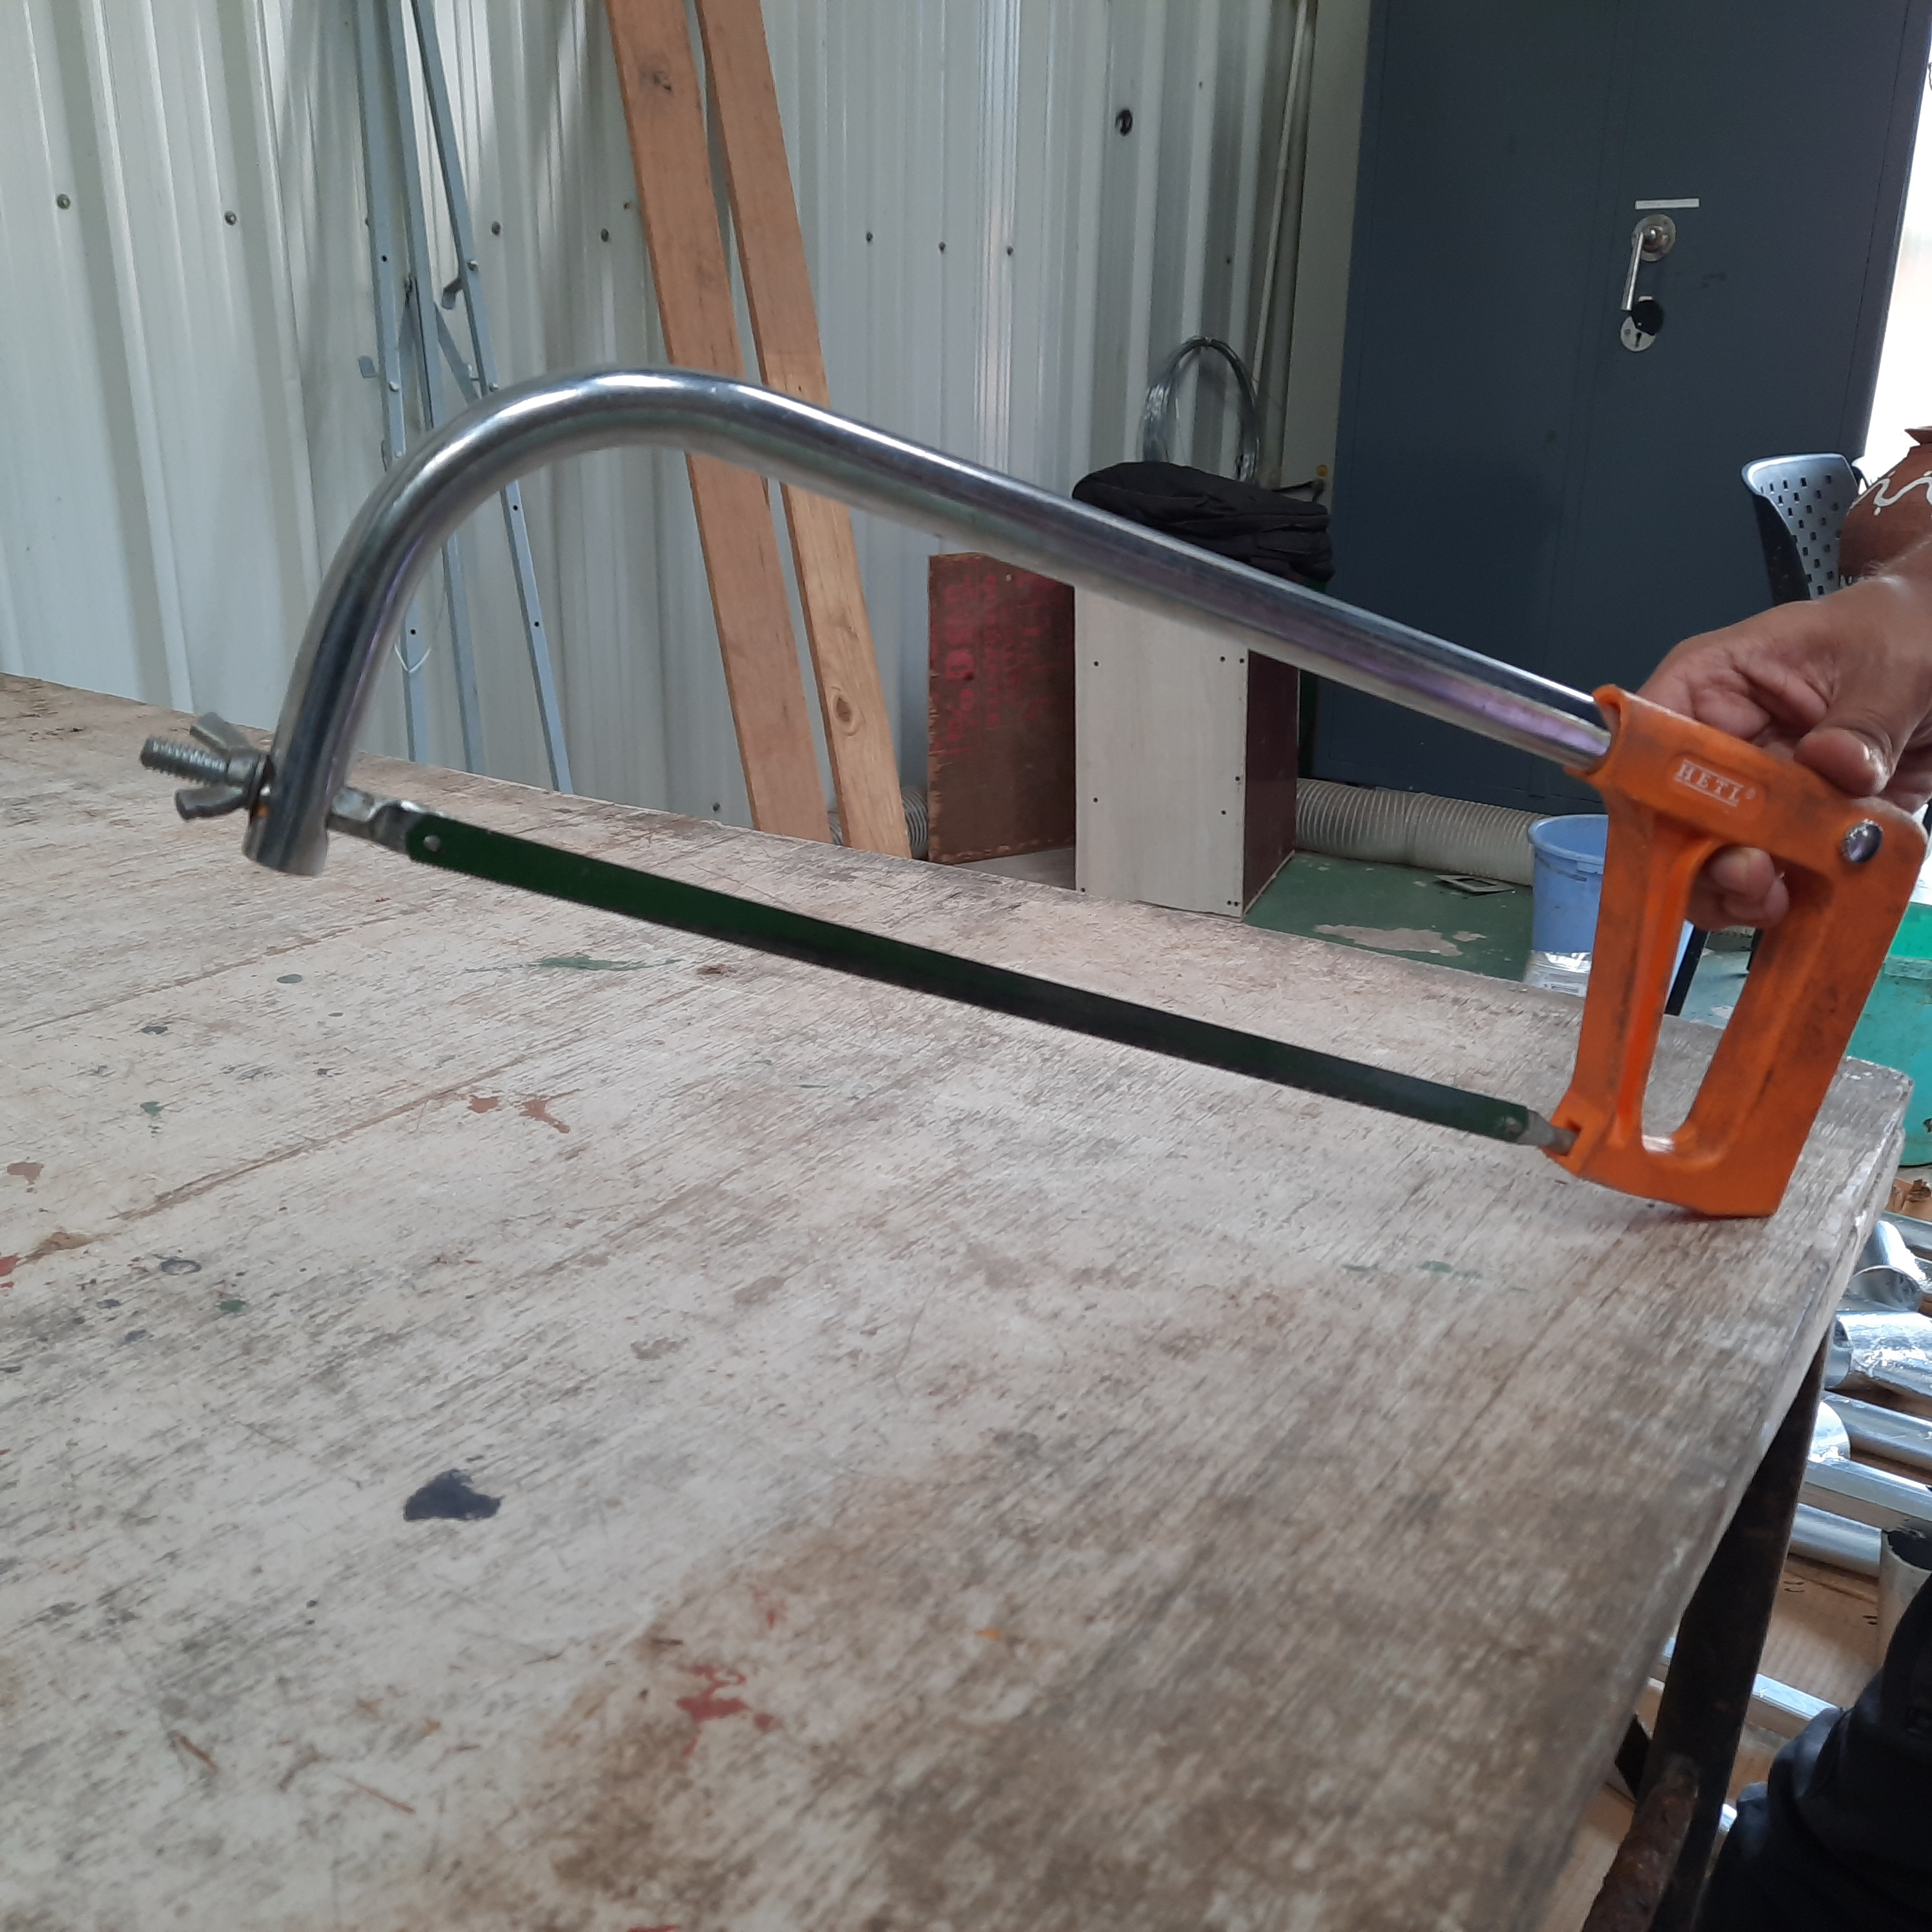Hexaframe: (150, 258, 1916, 1288)
